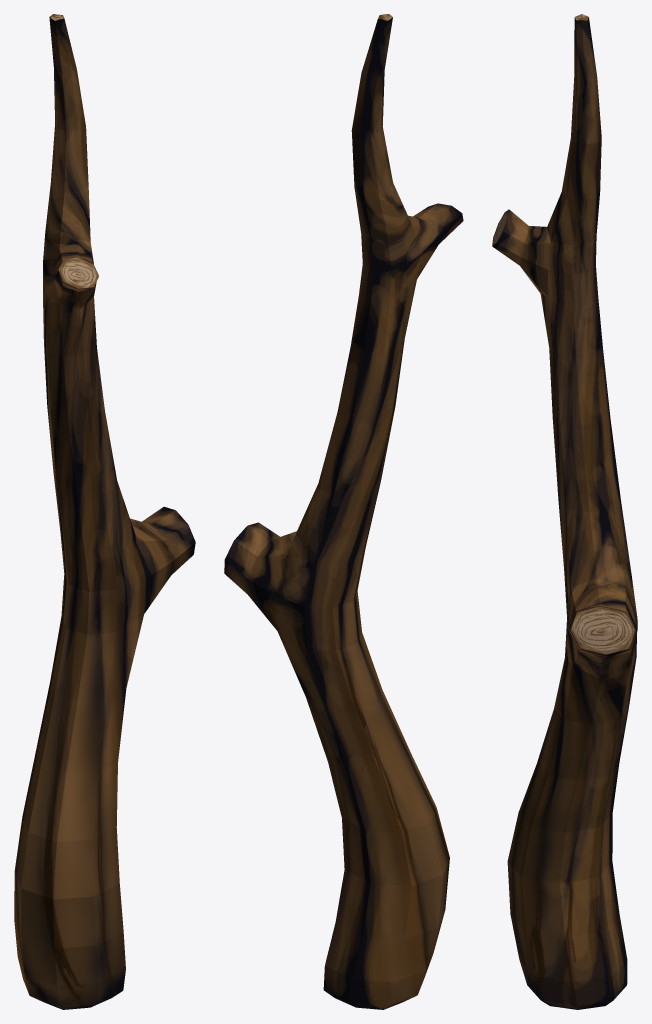
File: root_mantis.fbx
The picture shows the model from 3 angles, left to right: view 1: azimuth 30°, elevation 25°; view 2: azimuth 150°, elevation 25°; view 3: azimuth 270°, elevation 25°; orthographic projection.
Parts seen in each view (by area): view 1: Cube; view 2: Cube; view 3: Cube.
Part boxes in pixels (left/top/right/bottom): Cube: left=14, top=14, right=195, bottom=1009; Cube: left=224, top=14, right=463, bottom=1009; Cube: left=492, top=14, right=637, bottom=1009.
Size of the model in its own units: 352 by 1791 by 243.
